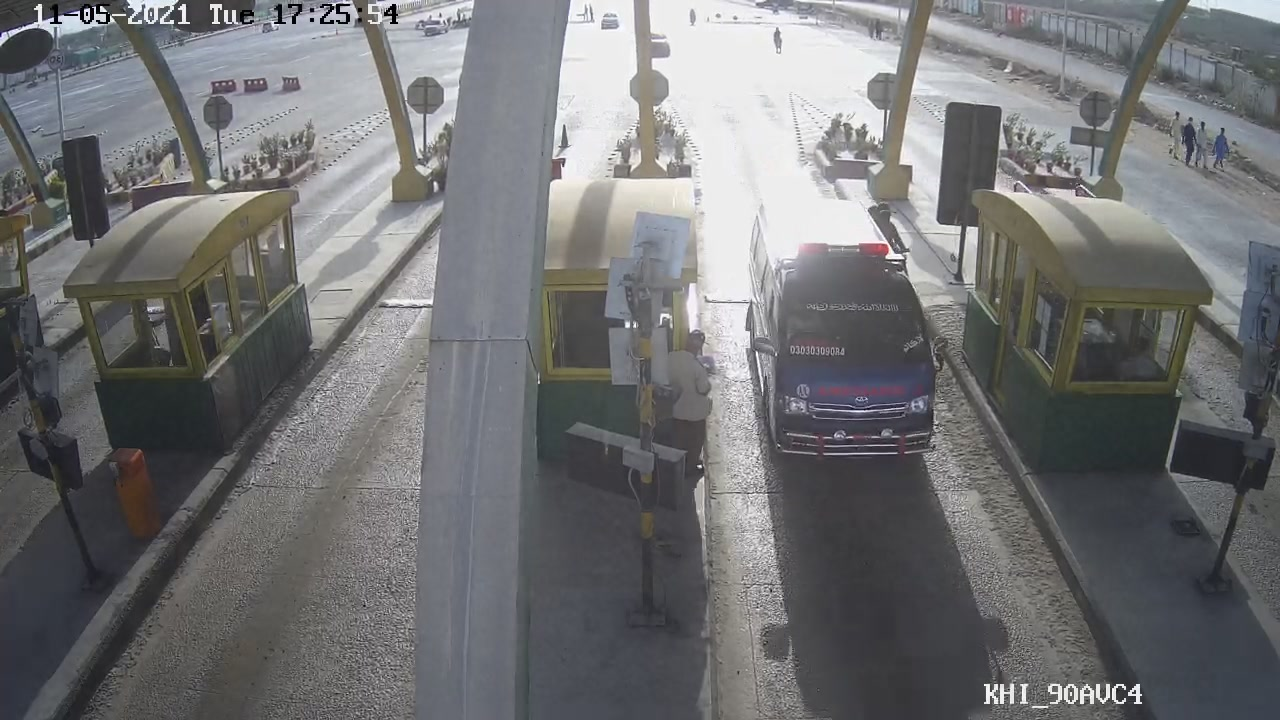F2: (737, 190, 959, 470)
